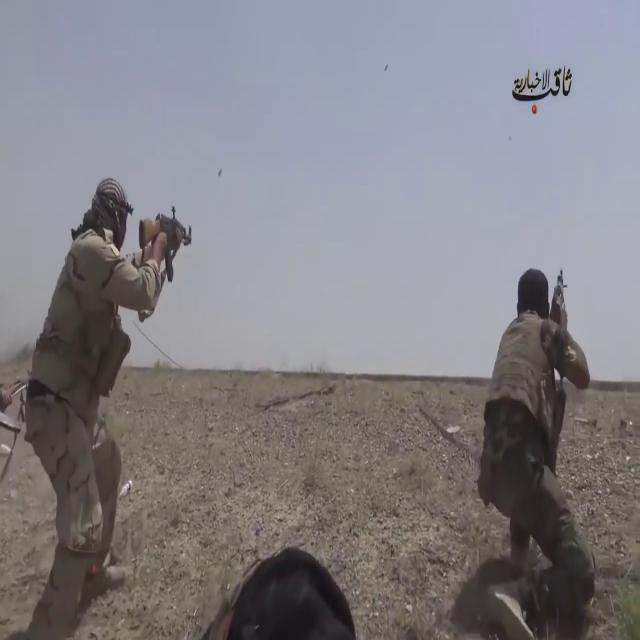long weapon: (136, 207, 198, 284), (549, 263, 573, 343)
